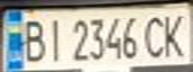2: (66, 15, 90, 62)
3: (87, 15, 109, 62)
4: (103, 12, 127, 61)
6: (121, 12, 145, 61)
B: (18, 16, 48, 63)
C: (139, 11, 169, 60)
I: (42, 15, 69, 63)
K: (157, 10, 193, 58)
